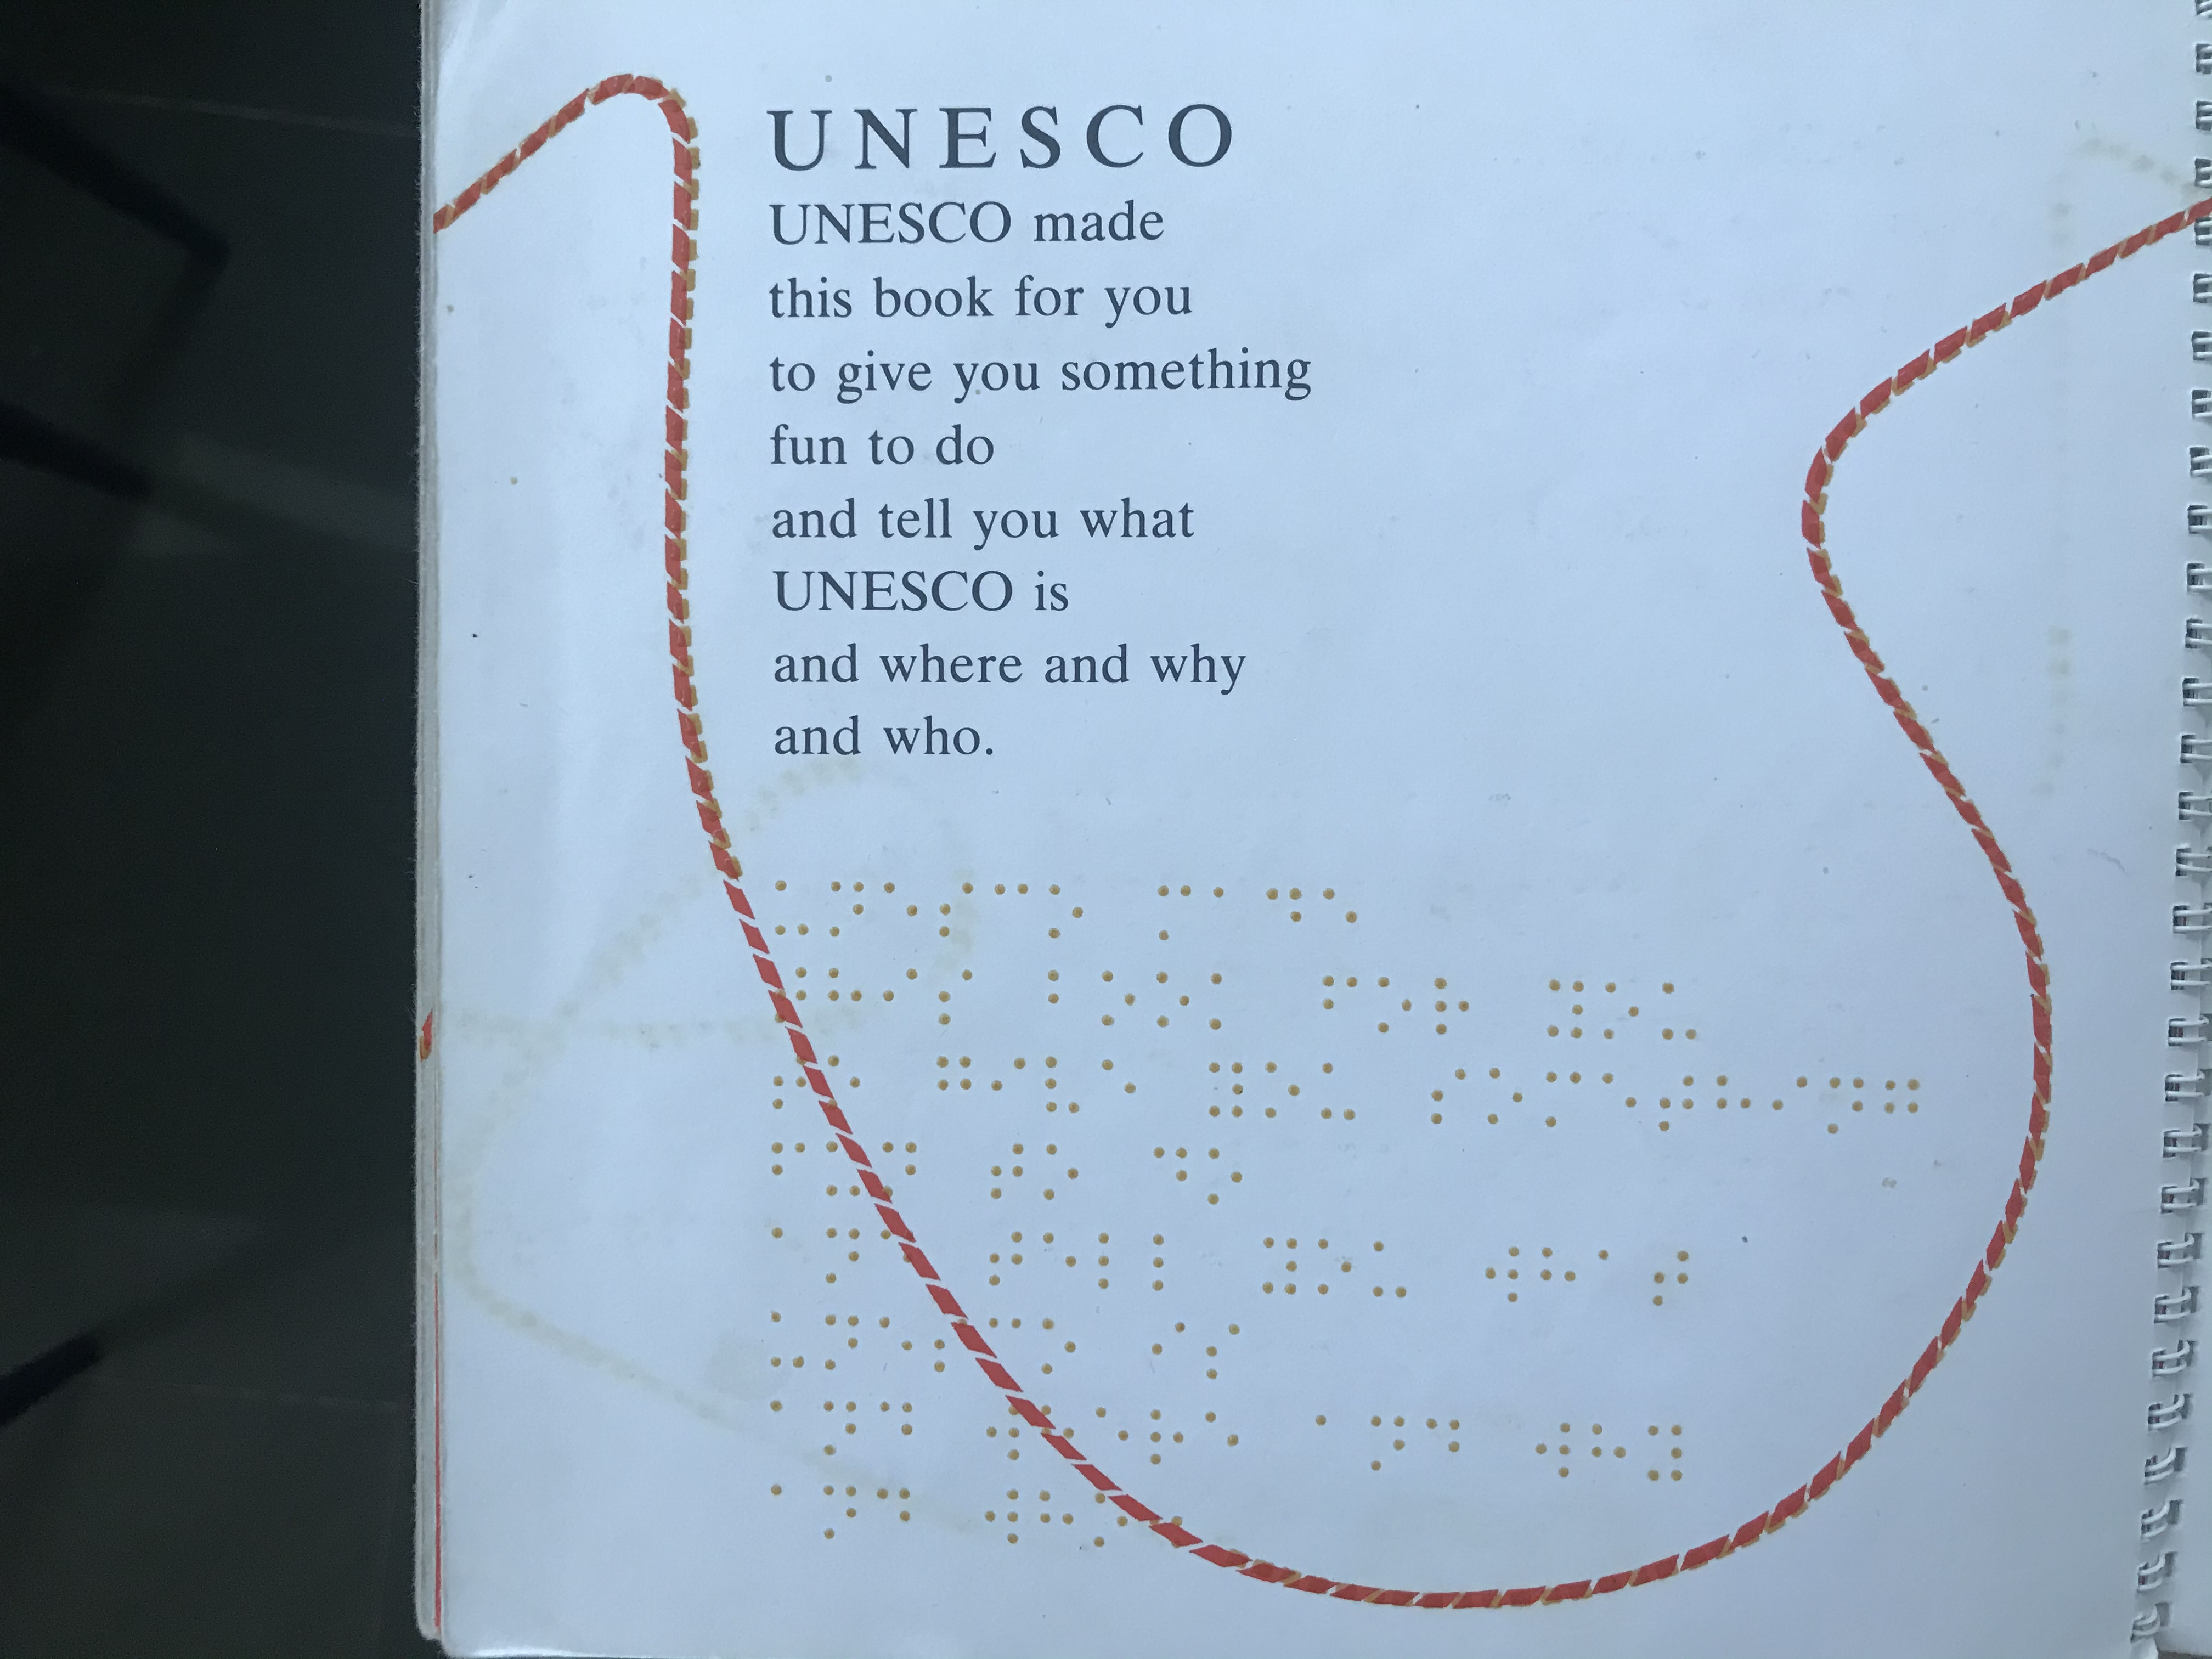Braille: (1482, 1241, 1527, 1312), (1644, 1422, 1691, 1490), (1548, 971, 1588, 1049), (1258, 1230, 1301, 1302), (1660, 976, 1702, 1049), (1143, 1492, 1191, 1554), (772, 1046, 815, 1115), (1313, 1234, 1357, 1304), (1090, 1485, 1134, 1554), (768, 875, 812, 943), (1094, 964, 1137, 1032), (1430, 974, 1474, 1042), (1153, 1230, 1197, 1298), (1545, 1063, 1587, 1133), (1146, 1405, 1188, 1474), (1036, 1485, 1078, 1554), (826, 877, 869, 943), (1045, 878, 1089, 945), (1153, 878, 1197, 945), (1318, 1060, 1359, 1131), (1588, 1417, 1629, 1488), (1320, 882, 1362, 950), (1320, 971, 1362, 1039), (1883, 1073, 1925, 1141), (1653, 1244, 1695, 1312), (1202, 1319, 1247, 1382), (1534, 1419, 1576, 1486), (1205, 1060, 1249, 1124), (1825, 1073, 1869, 1138), (819, 1481, 862, 1546), (1372, 1234, 1411, 1307), (937, 873, 977, 943), (1538, 1243, 1578, 1312), (986, 1398, 1026, 1467), (822, 962, 864, 1028), (993, 877, 1031, 948), (1310, 1413, 1353, 1476), (937, 962, 977, 1030), (1205, 969, 1245, 1037), (822, 1138, 864, 1202), (1090, 1405, 1132, 1469), (768, 1478, 810, 1542), (982, 1486, 1024, 1551), (1604, 978, 1641, 1051), (984, 1230, 1028, 1291), (1266, 884, 1306, 950), (934, 1051, 974, 1117), (1207, 1145, 1247, 1211), (822, 1225, 862, 1291), (1204, 1405, 1244, 1471), (1040, 1143, 1082, 1206), (1211, 882, 1249, 950), (1425, 1412, 1463, 1480), (1101, 1056, 1141, 1121), (1430, 1066, 1470, 1131), (1486, 1065, 1526, 1129), (1042, 1230, 1082, 1295), (822, 1310, 862, 1375), (1038, 1399, 1078, 1464), (819, 1398, 862, 1457), (1378, 972, 1414, 1042), (874, 1483, 916, 1544), (883, 875, 921, 941), (775, 962, 813, 1028), (1264, 1060, 1303, 1126), (1716, 1068, 1754, 1134), (1042, 1056, 1082, 1119), (1155, 969, 1191, 1037), (989, 1138, 1026, 1206), (880, 1138, 921, 1197), (826, 1053, 864, 1117), (989, 1051, 1028, 1115), (881, 1225, 920, 1290), (934, 1312, 972, 1377), (1040, 1317, 1078, 1382), (1045, 965, 1085, 1026), (883, 962, 920, 1028), (1771, 1072, 1810, 1134), (1151, 1143, 1190, 1206), (770, 1309, 808, 1371), (876, 1399, 918, 1457), (1371, 1413, 1409, 1476), (1660, 1070, 1696, 1134), (768, 1396, 810, 1452), (1599, 1246, 1634, 1312), (1602, 1068, 1639, 1131), (1097, 1230, 1134, 1293), (989, 1312, 1024, 1377), (772, 1138, 808, 1197), (1151, 1319, 1188, 1377), (880, 1312, 914, 1371), (772, 1220, 803, 1276)
